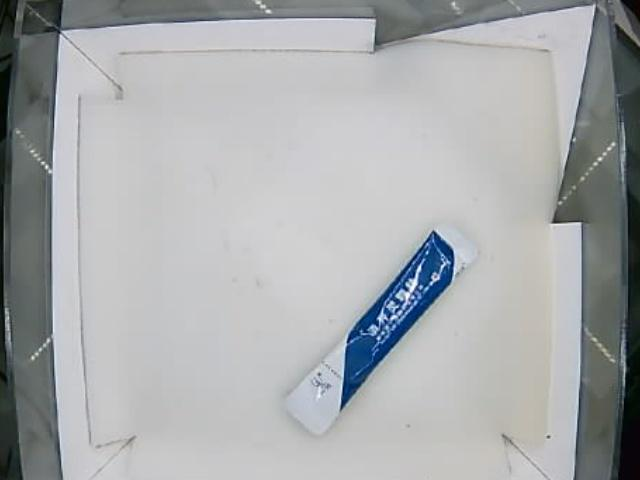Medicine: (284, 226, 477, 435)
